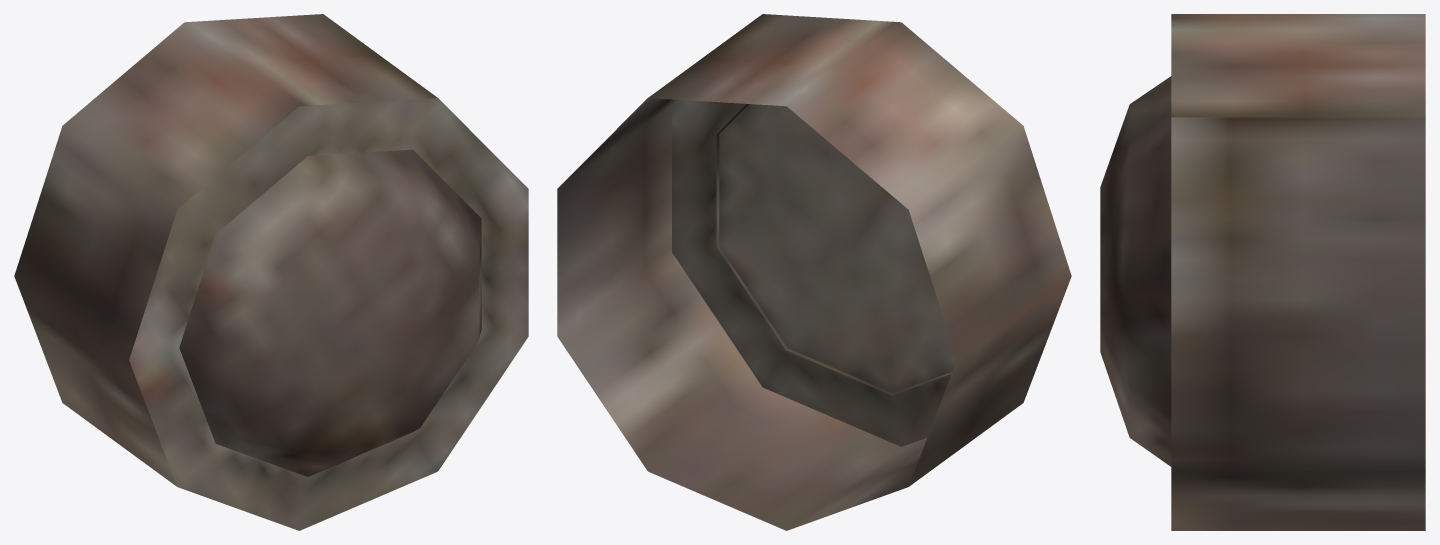
The model's file is ElectricalPoint_Long.FBX.
3 views of the same model, side by side, from view 1: azimuth 30°, elevation 25°; view 2: azimuth 150°, elevation 25°; view 3: azimuth 270°, elevation 25° (orthographic). The views are drawn at different scales.
Parts seen in each view (by area): view 1: ElectricalPoint_Long; view 2: ElectricalPoint_Long; view 3: ElectricalPoint_Long.
Part boxes in pixels (x1,y1,x2,y2): ElectricalPoint_Long: (14, 14, 528, 530); ElectricalPoint_Long: (557, 14, 1071, 530); ElectricalPoint_Long: (1100, 14, 1425, 530).
Size of the model in its own units: 9.5 by 9.65 by 6.04.
